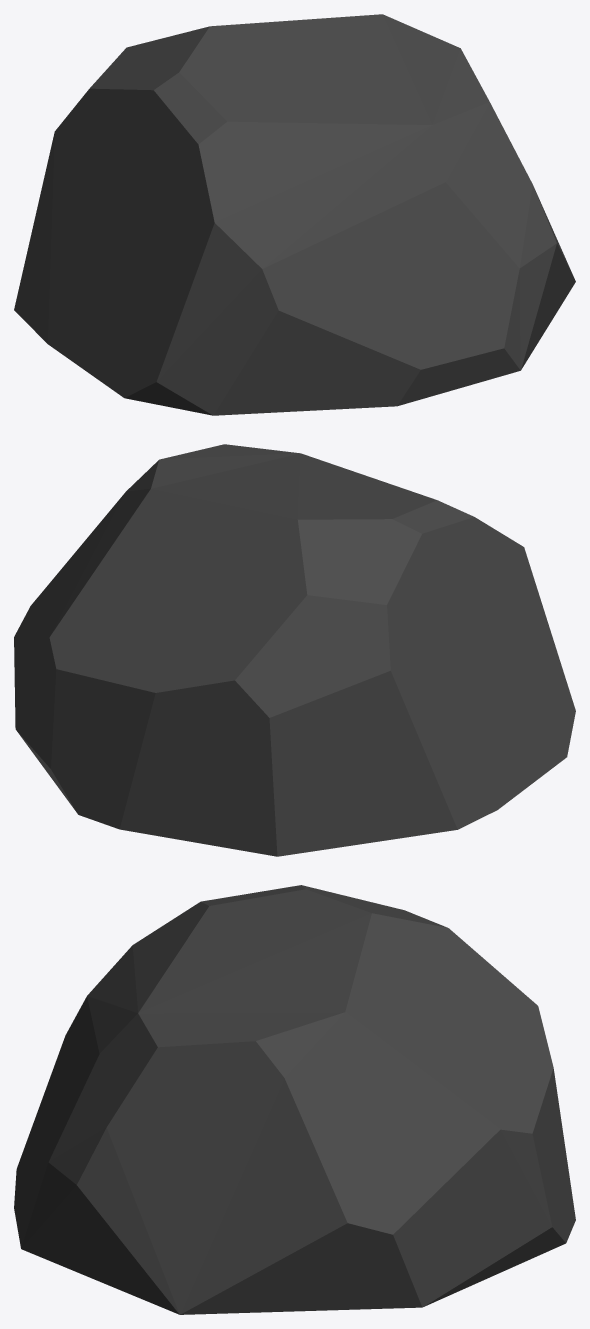
Rendered from rock_2.FBX.
3 views of the same model, one above another, from view 1: azimuth 30°, elevation 25°; view 2: azimuth 150°, elevation 25°; view 3: azimuth 270°, elevation 25° (orthographic). The views are drawn at different scales.
Visible parts, largest first — view 1: rock_2; view 2: rock_2; view 3: rock_2.
Boxes of the visible parts, x1=… form: rock_2: x1=14, y1=14, x2=575, y2=415; rock_2: x1=14, y1=444, x2=575, y2=856; rock_2: x1=14, y1=885, x2=575, y2=1314.
Bounding box in the file's own units: 2.08 × 1.13 × 2.12.
1 material, 1 textured.
